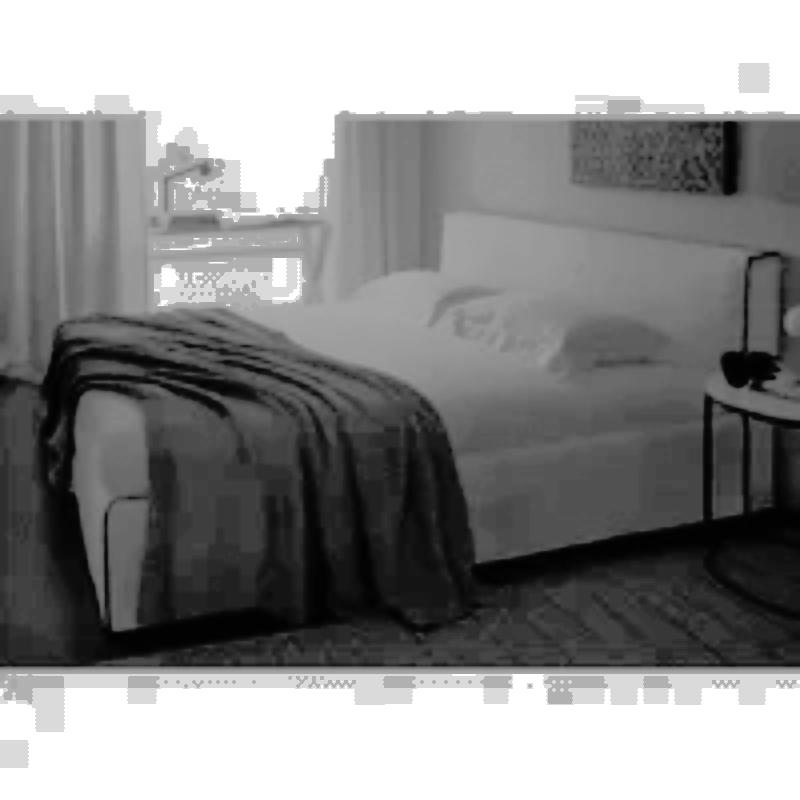pillow: (438, 286, 678, 380), (352, 265, 500, 334)
